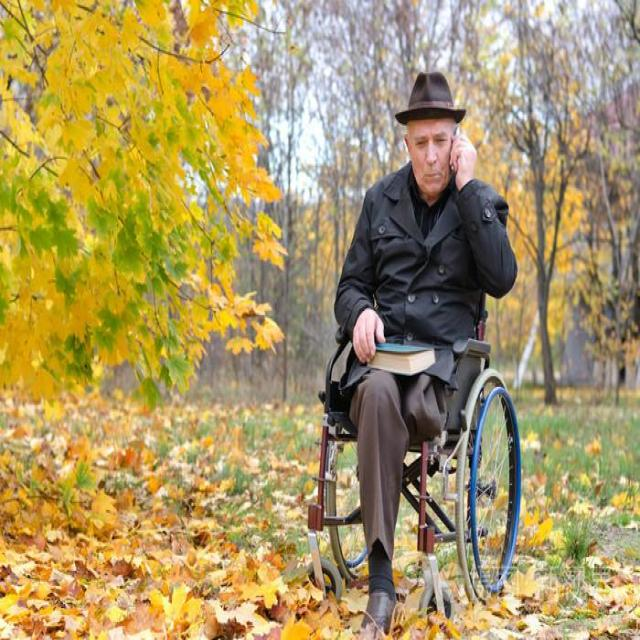wheelchairs: (298, 299, 530, 635)
